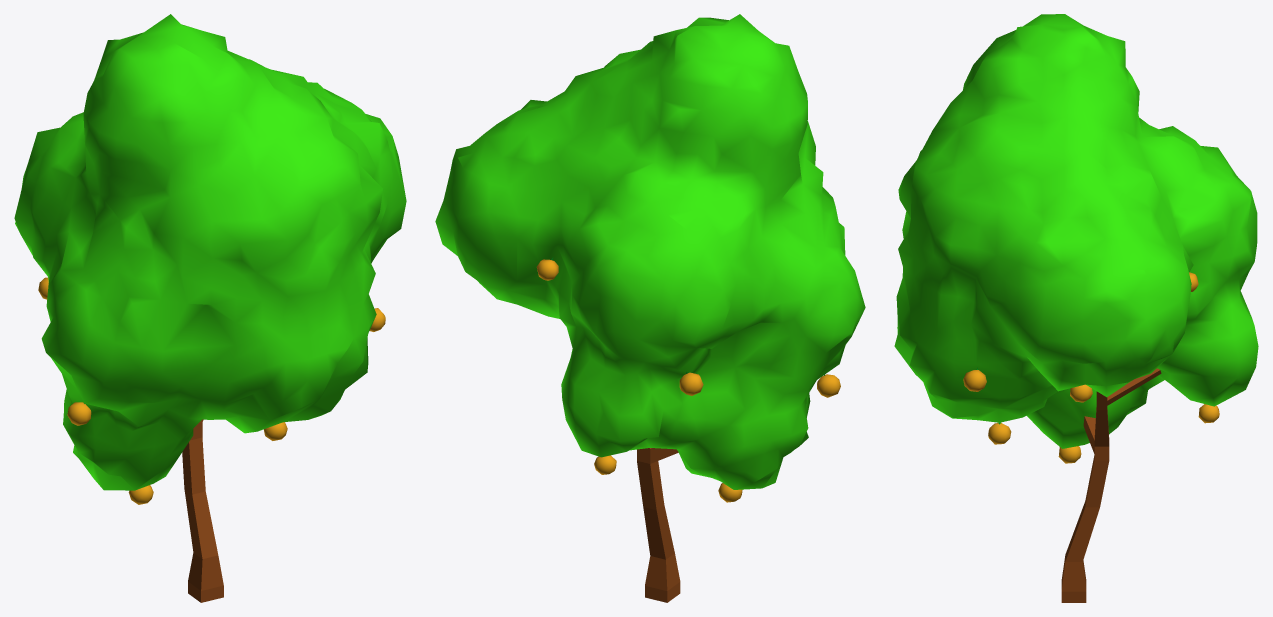
File: SM_OrangeTree_001_LOD3.fbx
The picture shows the model from 3 angles, left to right: view 1: azimuth 30°, elevation 25°; view 2: azimuth 150°, elevation 25°; view 3: azimuth 270°, elevation 25°; orthographic projection. The views are drawn at different scales.
Parts seen in each view (by area): view 1: OrangeTree_01; view 2: OrangeTree_01; view 3: OrangeTree_01.
Boxes of the visible parts, bbox=[...] form: OrangeTree_01: bbox=[14, 14, 406, 602]; OrangeTree_01: bbox=[435, 14, 865, 602]; OrangeTree_01: bbox=[894, 14, 1258, 602].
Bounding box in the file's own units: 186 × 276 × 166.
